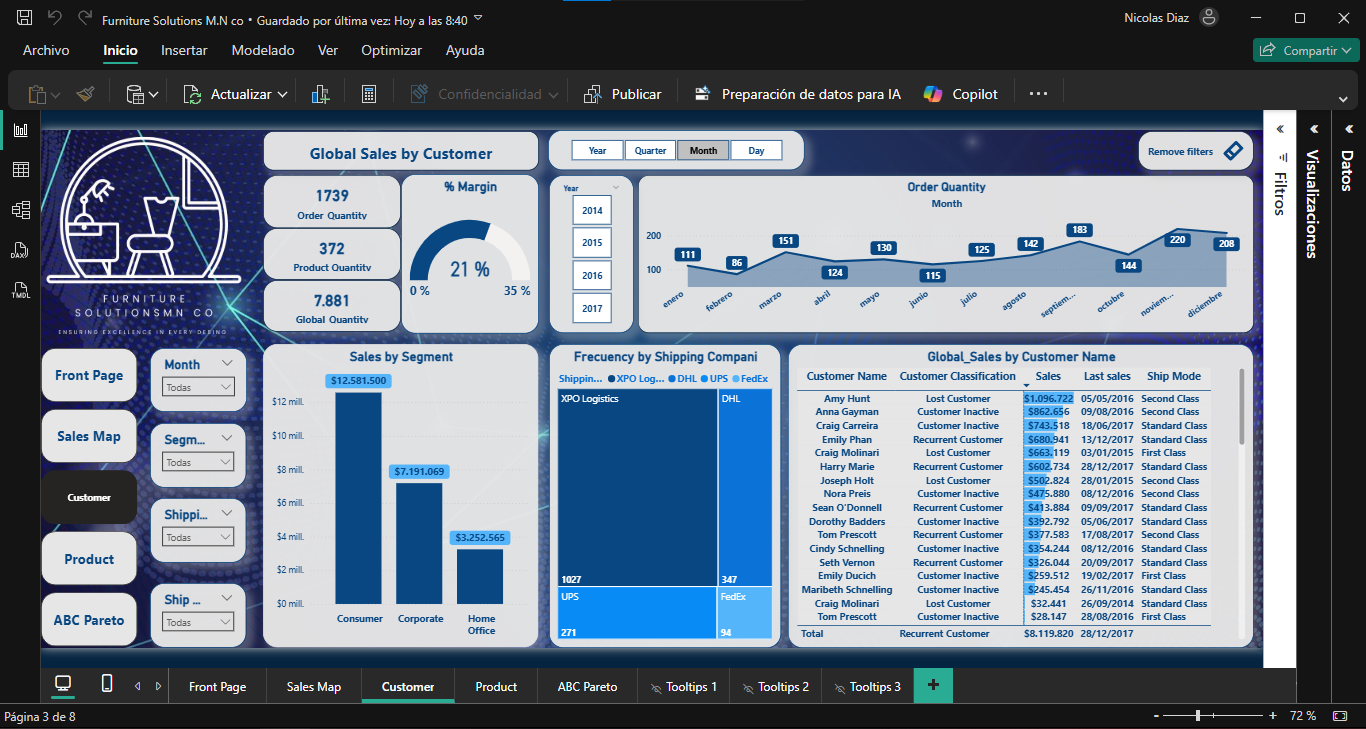

Layout of this report page (visuals, bound fields, positions):
{"tool":"powerbi","page":{"name":"Customer","canvas":[1700,720],"ordinal":2},"visuals":[{"type":"tableEx","title":"Global_Sales by Customer Name","fields":{"Values":["Customer_Table.Customer Name","Measures Table.Customer Classification","Measures Table.Global_Sales","Measures Table.Last sales","Order Table.Ship Mode"]},"box":[1039.3,297.7,648.3,423],"z":0},{"type":"columnChart","title":"Sales by Segment","fields":{"Category":["Customer_Table.Segment"],"Y":["Measures Table.Global_Sales"]},"box":[308.3,298.3,383.3,421.7],"z":1000},{"type":"treemap","title":"Frecuency by Shipping Compani","fields":{"Group":["Order_Table.Shipping Compani"],"Values":["Measures Table.Order_Quantity"]},"box":[706.8,297.7,322.8,423],"z":2000},{"type":"card","fields":{"Values":["Measures Table.Order_Quantity"]},"box":[308.3,62.8,192,73.8],"z":3000},{"type":"card","fields":{"Values":["Measures Table.Product Quantity"]},"box":[308.3,136.6,192,72],"z":4000},{"type":"pageNavigator","box":[0,302.8,134.8,417.2],"z":5000},{"type":"image","box":[0,0,286.2,297.2],"z":6000},{"type":"textbox","box":[308.3,1.8,384,55.4],"z":7000},{"type":"card","fields":{"Values":["Measures Table.Global_Quantity"]},"box":[308.3,208.6,192,72],"z":8000},{"type":"gauge","title":"% Margin","fields":{"Y":["Measures_Table.% Margin"],"MaxValue":["Measures_Table.limite % Margen"]},"box":[500.3,60.9,192,221.5],"z":9000},{"type":"areaChart","title":"Order Quantity ","fields":{"Category":["Calendar.Date.Variación.Jerarquía de fechas.Mes"],"Y":["Measures Table.Order_Quantity"]},"box":[830.6,62.6,857,219.8],"z":10000},{"type":"actionButton","box":[1526.8,1.8,160.6,55.4],"z":11000},{"type":"slicer","fields":{"Values":["date parameter.date parameter"]},"box":[705.6,0,356.8,56],"z":12000},{"type":"slicer","fields":{"Values":["Calendario.Date.Variación.Jerarquía de fechas.Año"]},"box":[707.1,62.8,118.2,219.7],"z":13000},{"type":"slicer","fields":{"Values":["Calendar.Date.Variación.Jerarquía de fechas.Mes"]},"box":[151.7,303.3,135,89],"z":14000},{"type":"slicer","fields":{"Values":["Customer Table.Segment"]},"box":[152,408,134.4,89.6],"z":15000},{"type":"slicer","fields":{"Values":["Order Table.Shipping Compani"]},"box":[152,512,134.4,89.6],"z":16000},{"type":"slicer","fields":{"Values":["Order Table.Ship Mode"]},"box":[152,630.4,134.4,89.6],"z":17000}]}

Visuals, with their boxes on the page's 1700x720 design canvas (x1, y1, x2, y2). These are canvas units, not pixel positions in the 1366x729 screenshot, which may show the page scaled, cropped or inside an application window:
"Global_Sales by Customer Name" tableEx: 1039/298/1688/721
"Sales by Segment" columnChart: 308/298/692/720
"Frecuency by Shipping Compani" treemap: 707/298/1030/721
card - Measures Table.Order_Quantity: 308/63/500/137
card - Measures Table.Product Quantity: 308/137/500/209
pageNavigator: 0/303/135/720
image: 0/0/286/297
textbox: 308/2/692/57
card - Measures Table.Global_Quantity: 308/209/500/281
"% Margin" gauge: 500/61/692/282
"Order Quantity " areaChart: 831/63/1688/282
actionButton: 1527/2/1687/57
slicer - date parameter.date parameter: 706/0/1062/56
slicer - Calendario.Date.Variación.Jerarquía de fechas.Año: 707/63/825/282
slicer - Calendar.Date.Variación.Jerarquía de fechas.Mes: 152/303/287/392
slicer - Customer Table.Segment: 152/408/286/498
slicer - Order Table.Shipping Compani: 152/512/286/602
slicer - Order Table.Ship Mode: 152/630/286/720
